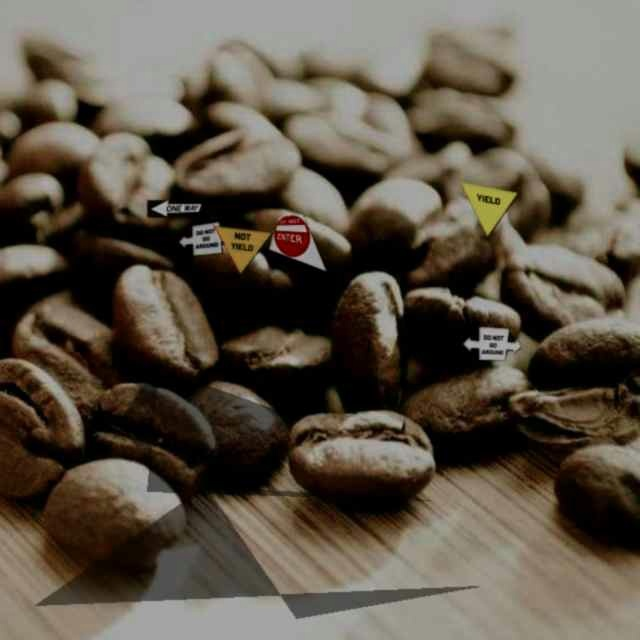DO_NOT_ENTER: (268, 213, 328, 273)
DO_NOT_GO_AROUND: (178, 221, 238, 256), (462, 326, 522, 361)
NOT_YIELD: (213, 225, 273, 275)
ONE_WAY_ left: (146, 199, 206, 218)
YIELD: (459, 181, 519, 238)
